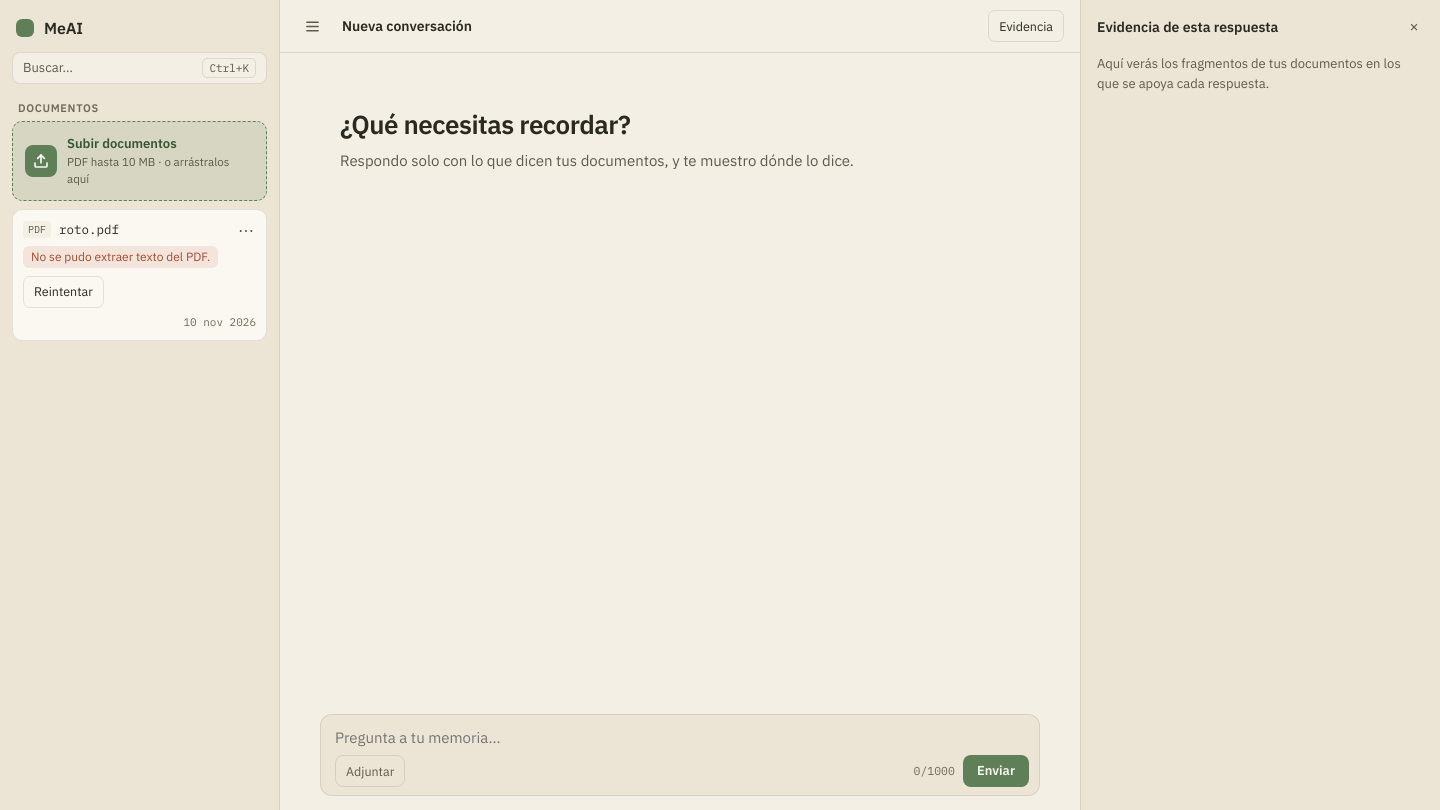
Test case: a failed document offers both the reprocess and the delete actions (RF-2.4)
Expected: the button with aria-label "Reintentar roto.pdf" is shown, [23,276,104,308]
What coordinates should you click on to do the following:
click the button named "Más acciones de roto.pdf"
I would click on:
 (246, 230)
Its box is [230,214,262,246].
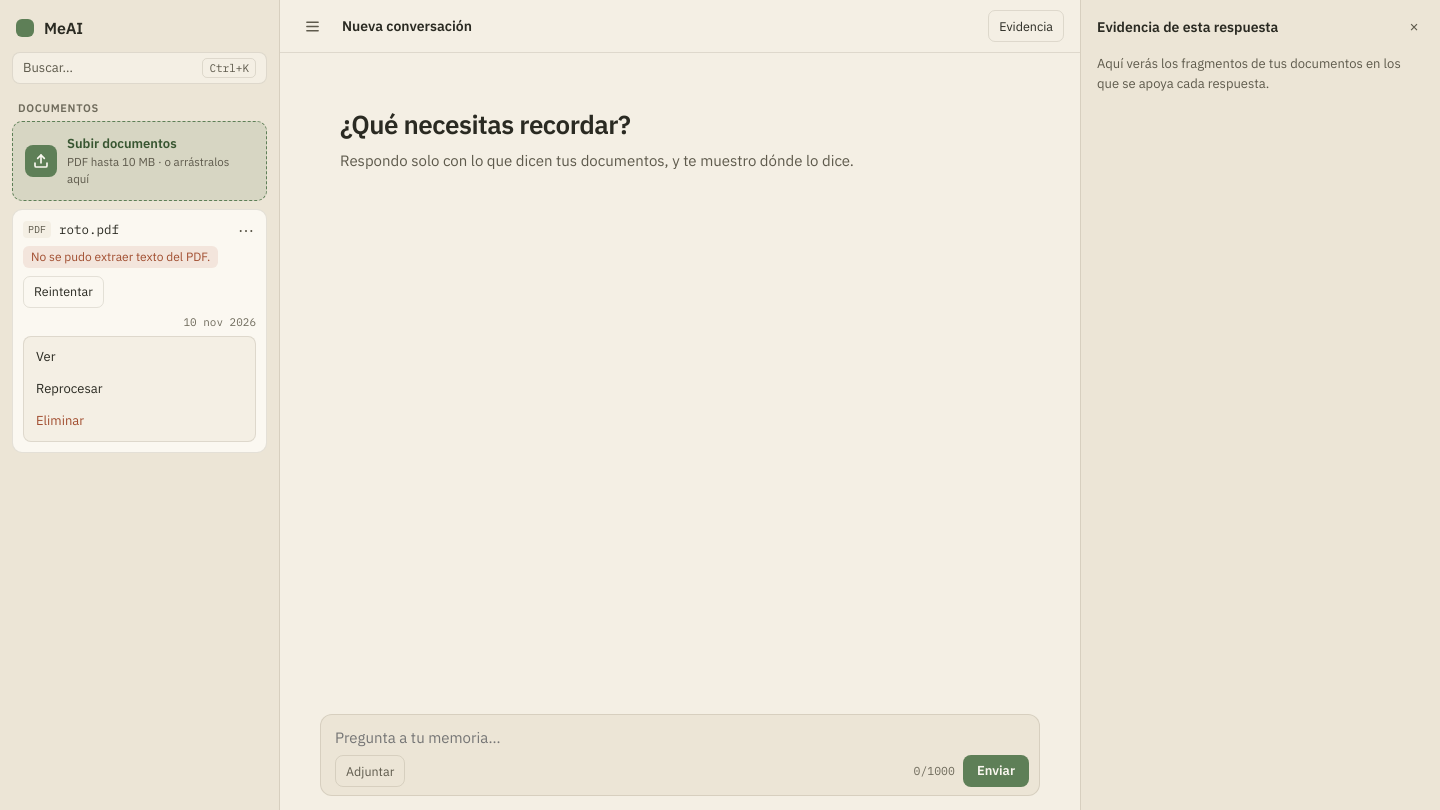
Now the menu item with aria-label "Reprocesar roto.pdf" is shown, box [28,373,251,405]
Now the menu item with aria-label "Eliminar roto.pdf" is shown, box [28,405,251,437]
